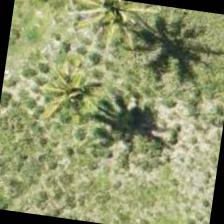Kelapa_Sawit: (12, 40, 114, 142), (56, 0, 154, 59)
